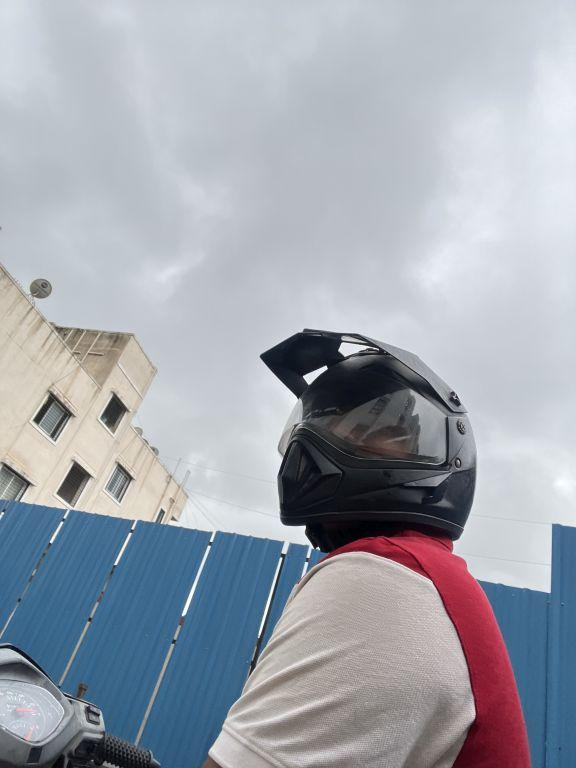helmet: (250, 300, 486, 567)
